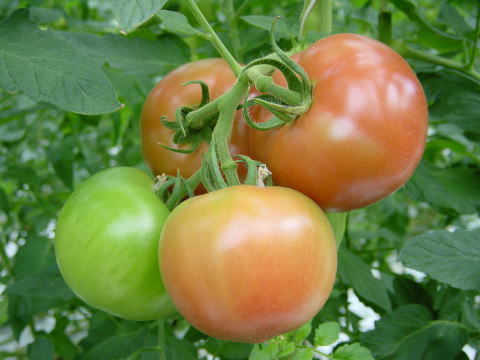stems: (164, 141, 214, 210), (252, 72, 304, 109), (183, 96, 224, 130), (216, 143, 246, 188)
tomato: (247, 33, 428, 214), (159, 185, 339, 345), (55, 167, 177, 322), (139, 58, 249, 186)
